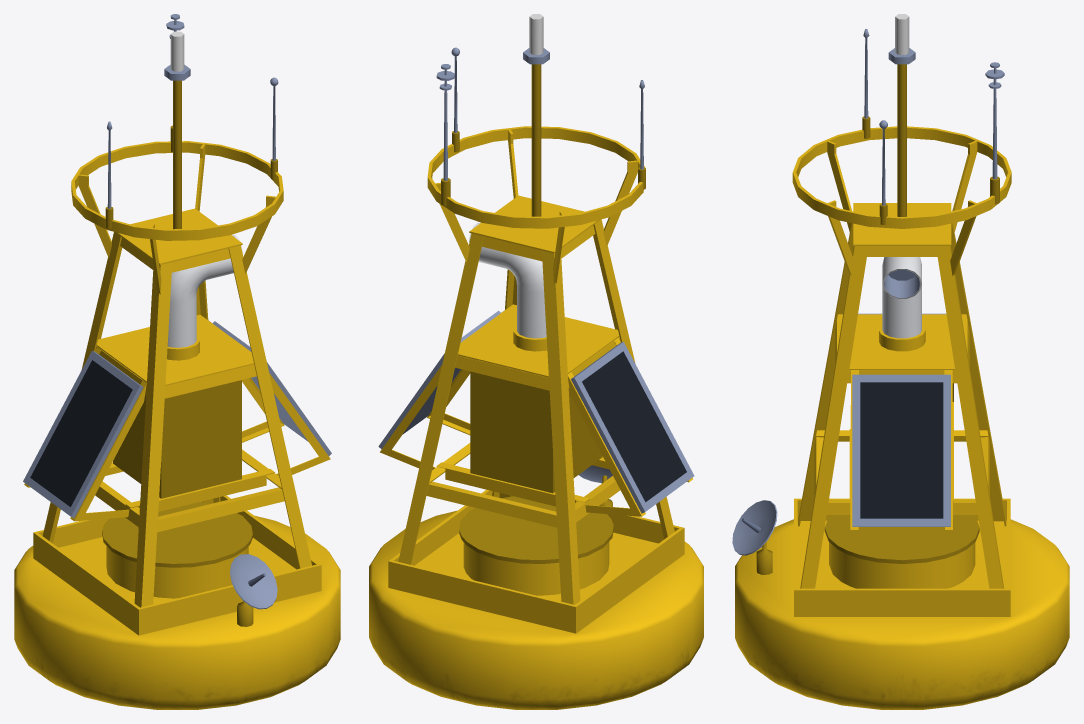
The model's file is Buoy04.fbx.
The picture shows the model from 3 angles, left to right: view 1: azimuth 30°, elevation 25°; view 2: azimuth 150°, elevation 25°; view 3: azimuth 270°, elevation 25°; orthographic projection. The views are drawn at different scales.
Parts seen in each view (by area): view 1: Buoy04; view 2: Buoy04; view 3: Buoy04.
Part boxes in pixels (x1,y1,x2,y2): Buoy04: (14, 14, 340, 709); Buoy04: (369, 14, 703, 709); Buoy04: (732, 14, 1069, 709).
Bounding box in the file's own units: 1.89 × 4.01 × 1.91.
